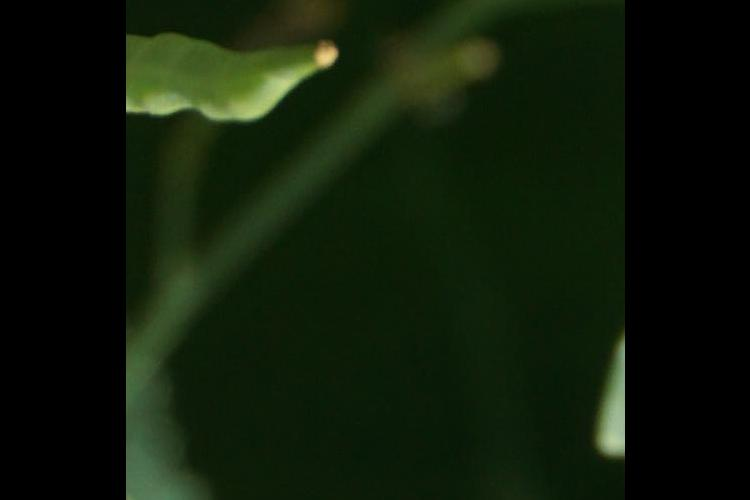pod: (128, 22, 339, 144)
